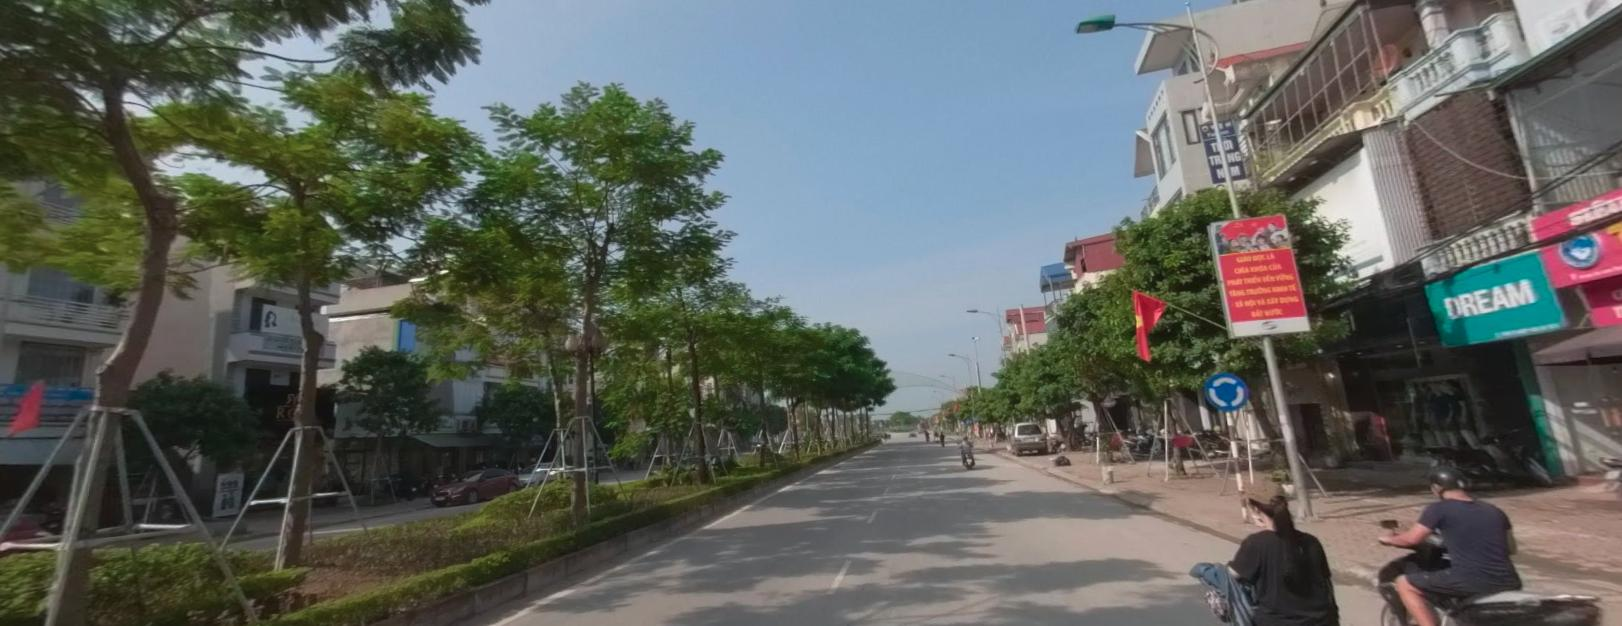Hieu lenh: (1204, 370, 1249, 409)
